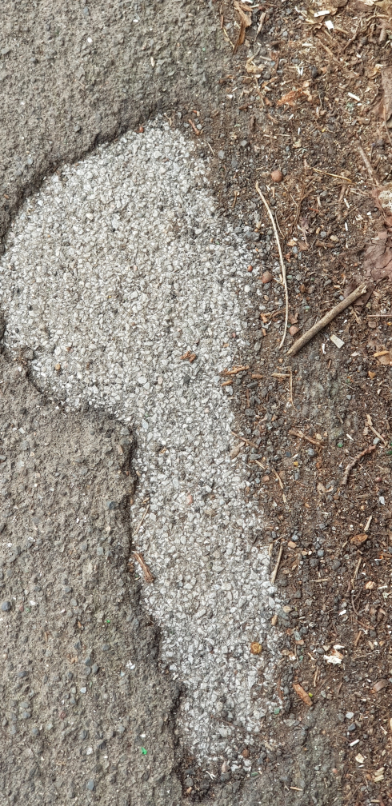pothole: (1, 91, 296, 792)
